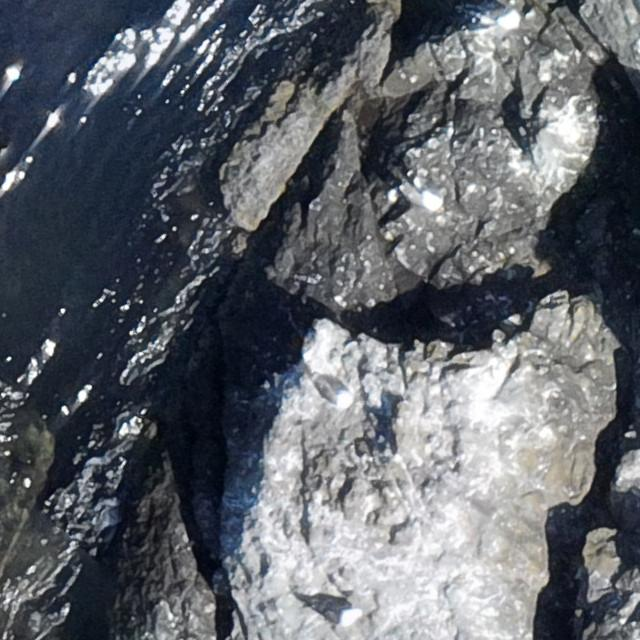umineko: (307, 376, 354, 411), (309, 597, 365, 626)
